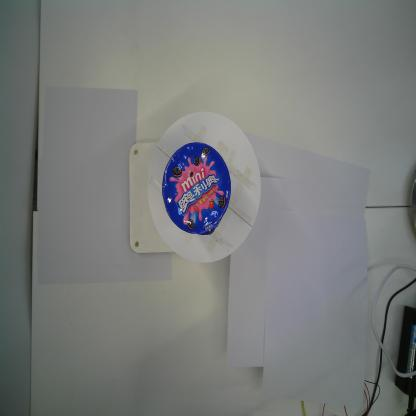Dessert: (161, 140, 232, 236)
